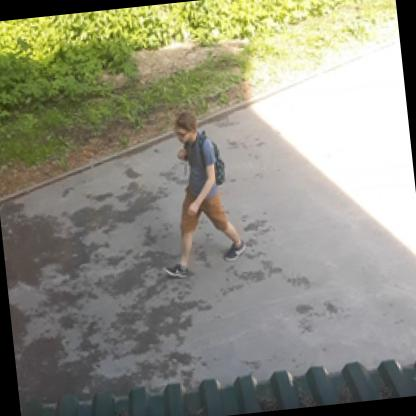Human Body: (148, 100, 258, 285)
